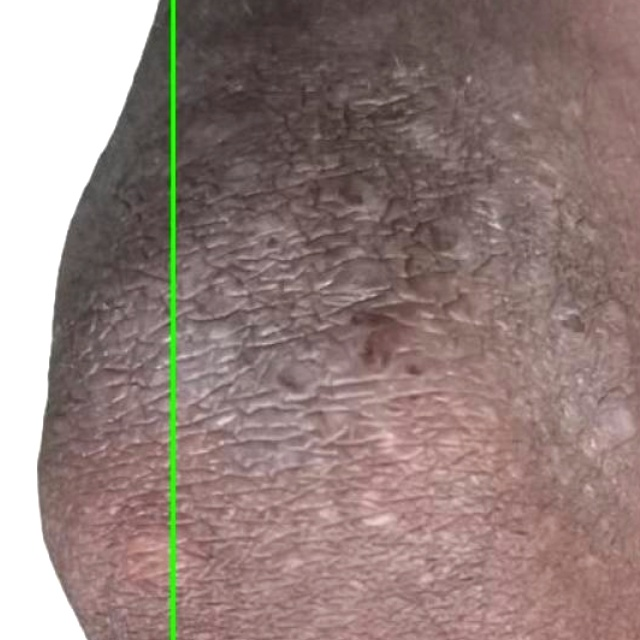Eczema: (0, 0, 174, 639)
